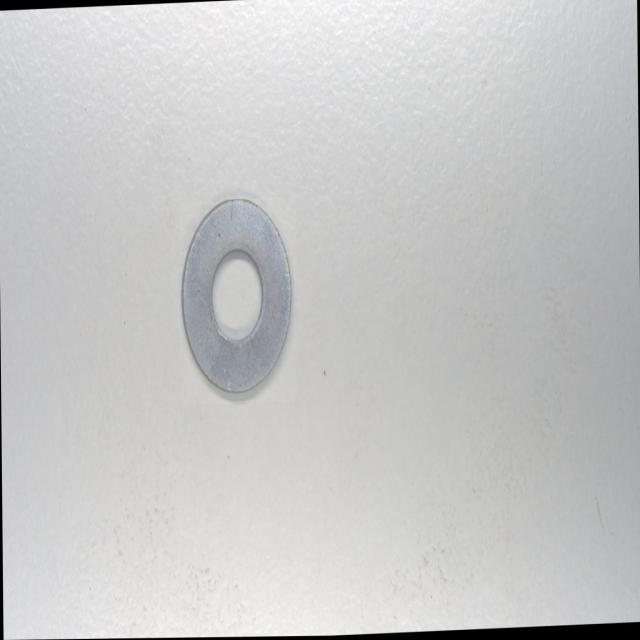washer: (179, 199, 295, 403)
